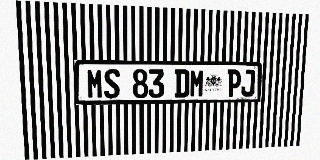3: (149, 69, 164, 98)
8: (133, 69, 148, 98)
D: (174, 69, 190, 98)
J: (241, 70, 255, 97)
M: (86, 69, 103, 99), (190, 69, 205, 97)
P: (227, 69, 241, 97)
S: (104, 69, 120, 99)
